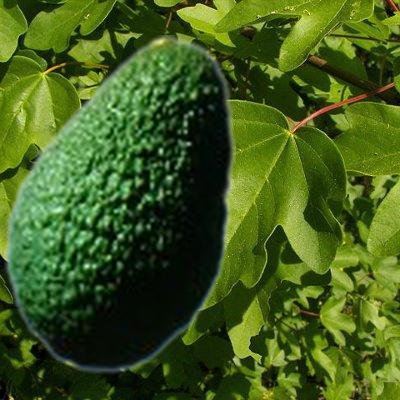avocado: (4, 35, 234, 373)
